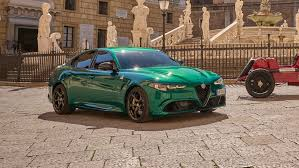car: (48, 45, 224, 122)
